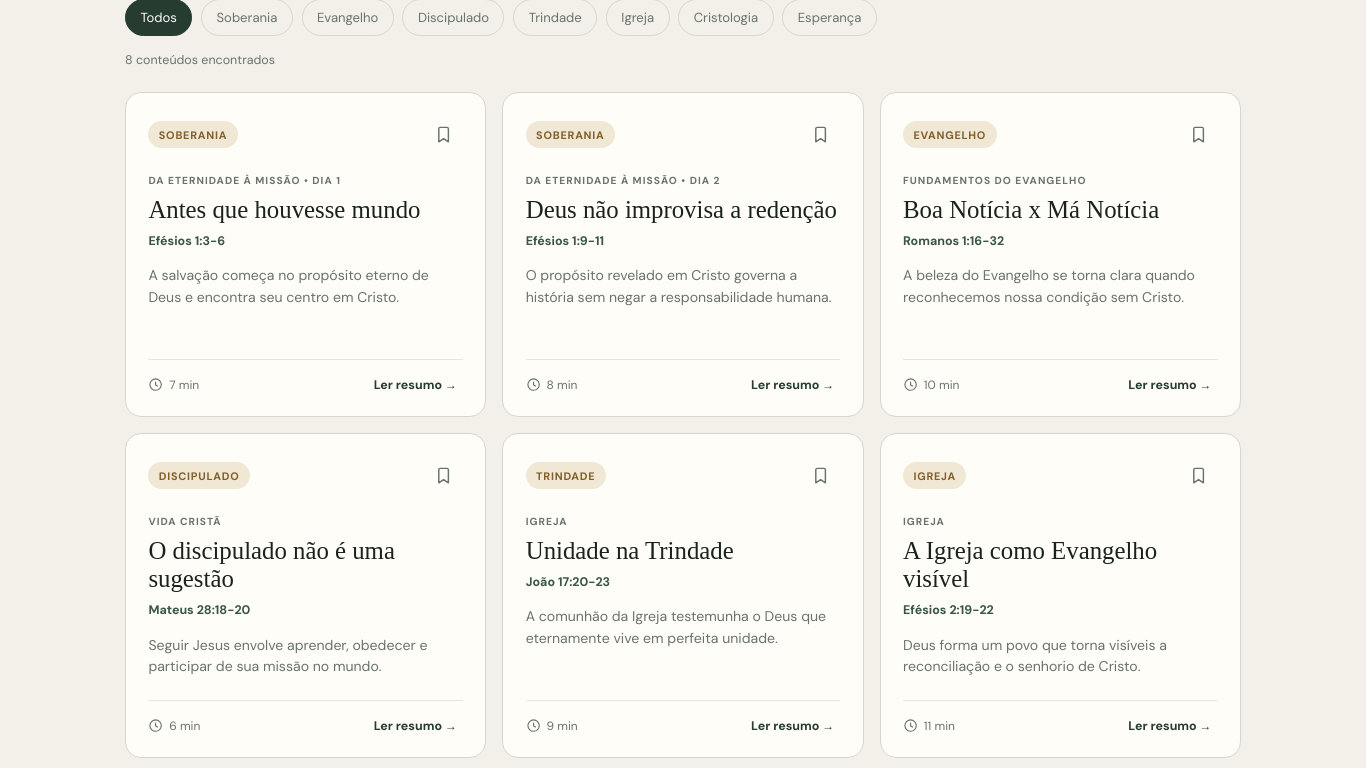
Test case: Painel de conteúdos › abre e fecha o resumo de um conteúdo
(page scrolled)
Click the button "Ler resumo →" below "Efésios 1:3-6".
click(415, 384)  # box [368,376,463,394]
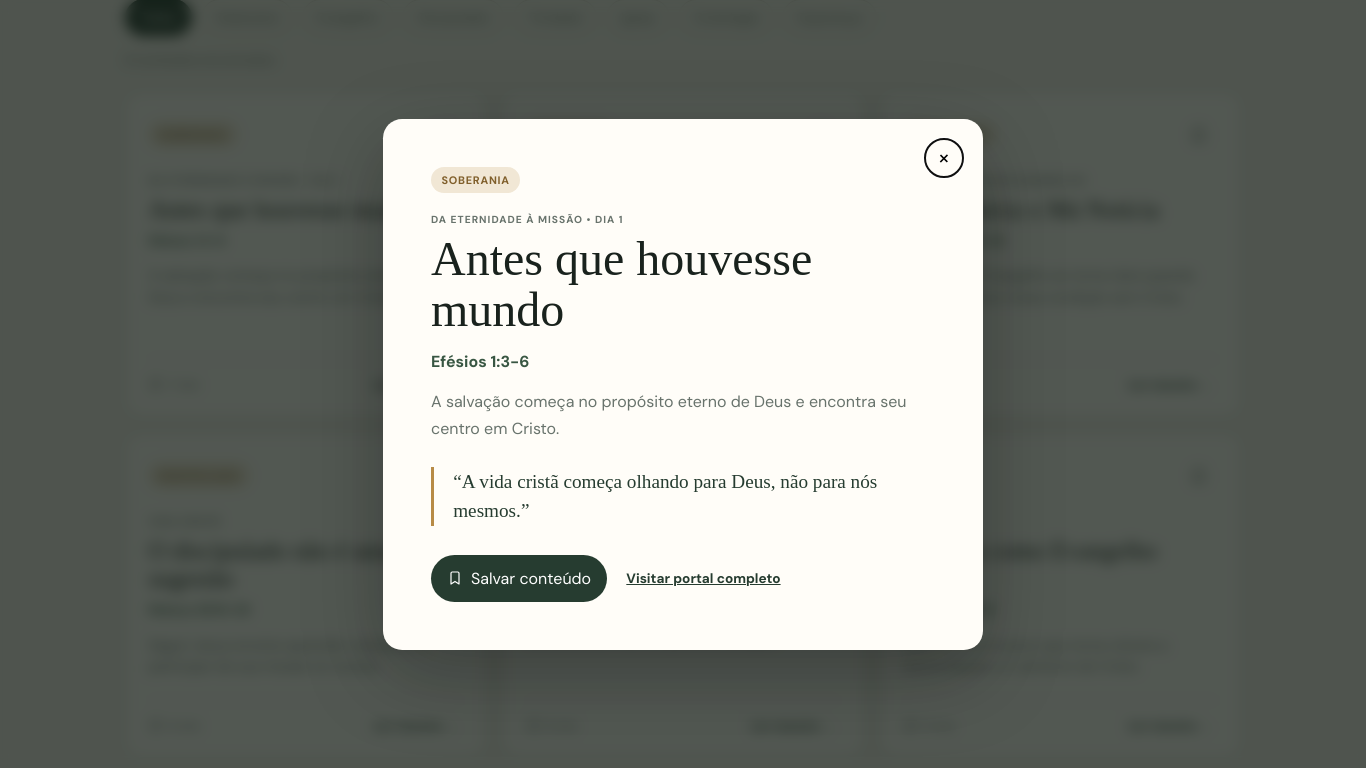
Now the dialog is shown, box [383,118,983,650]
Press Escape
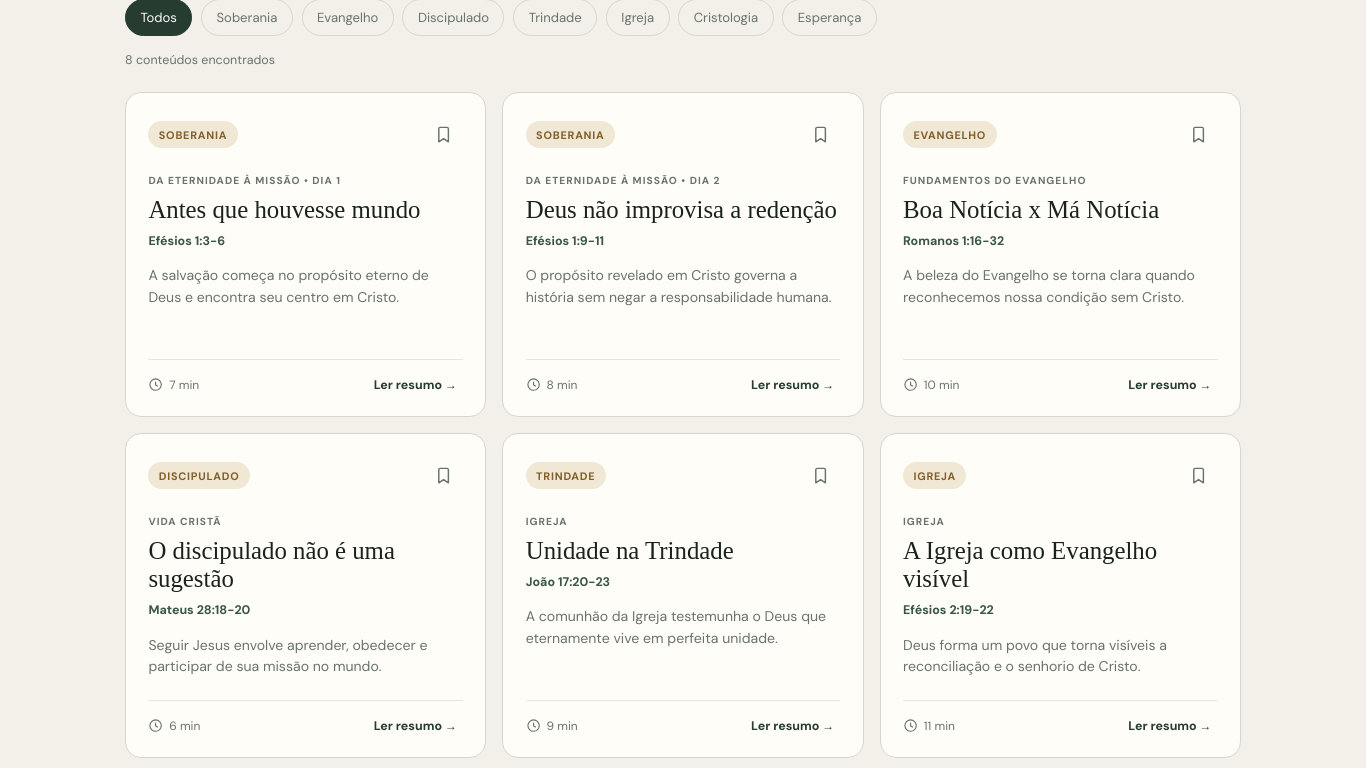
Now the dialog is gone
